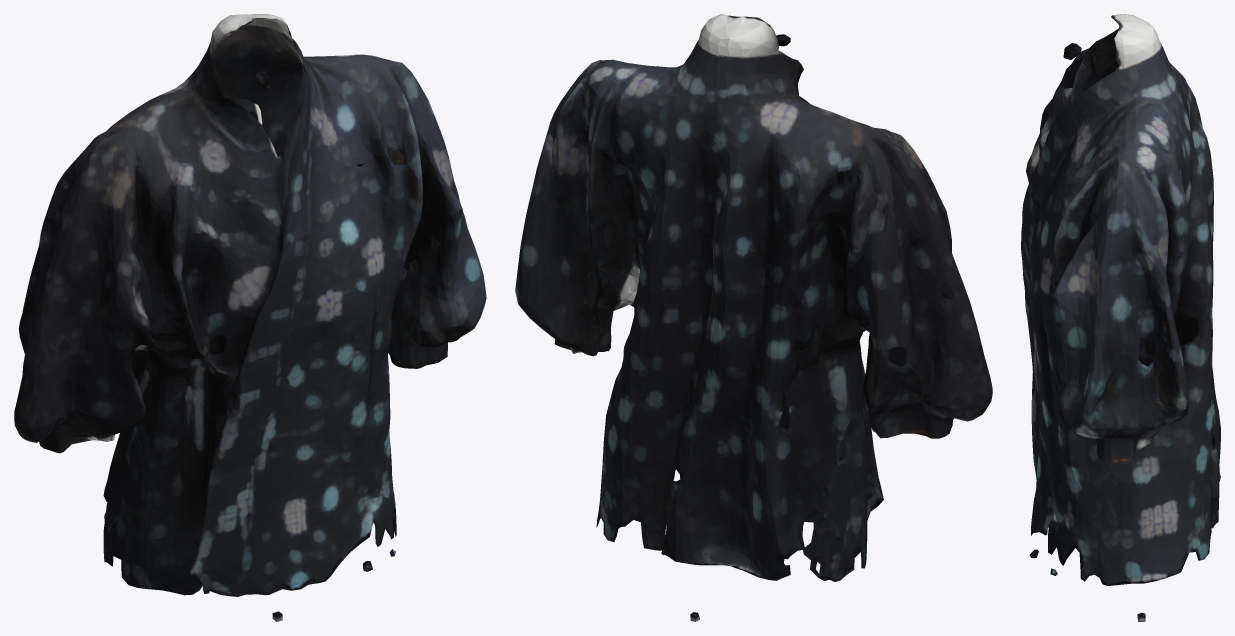
3 views of the same model, side by side, from view 1: azimuth 30°, elevation 25°; view 2: azimuth 150°, elevation 25°; view 3: azimuth 270°, elevation 25° (orthographic). The views are drawn at different scales.
Parts seen in each view (by area): view 1: world; view 2: world; view 3: world.
Boxes of the visible parts, bbox=[...] form: world: bbox=[14, 14, 486, 621]; world: bbox=[515, 14, 992, 621]; world: bbox=[1021, 14, 1220, 621].
Size of the model in its own units: 0.7275 by 0.935 by 0.2908.
1 material, 1 textured.
